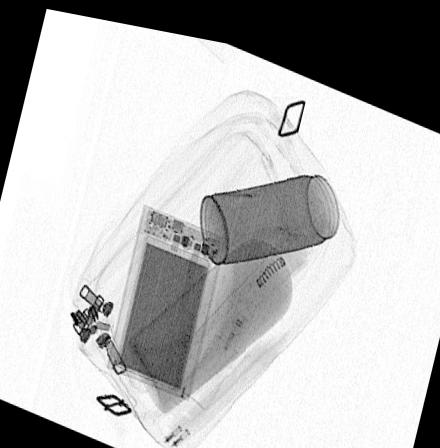Powerbank: (105, 196, 227, 393)
